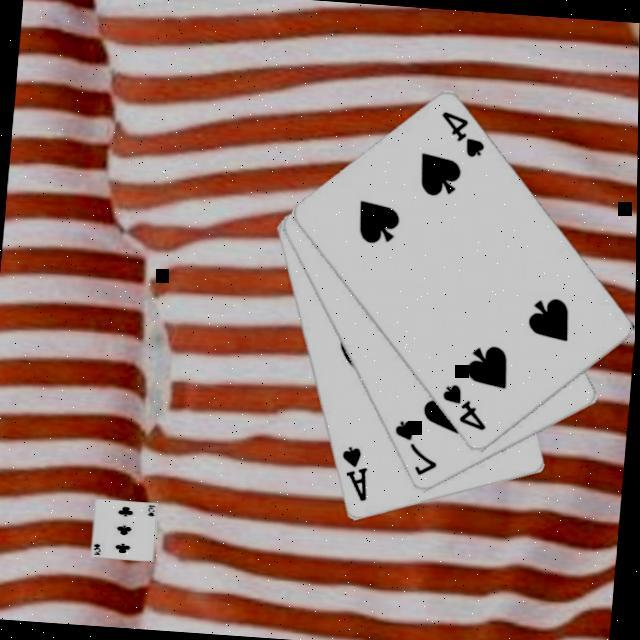4S: (435, 381, 491, 435), (433, 109, 488, 162)
7S: (387, 417, 442, 481)
AS: (334, 444, 373, 506)
